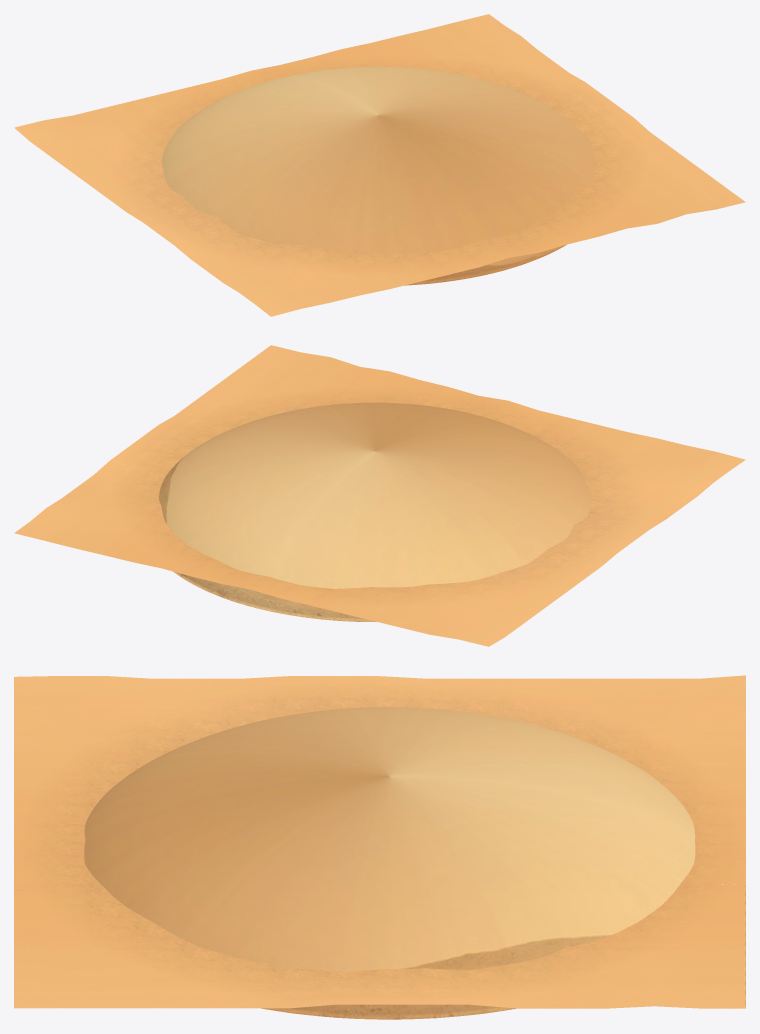
Rendered from basecamp.gltf.
3 renders of one model, top to bottom at view 1: azimuth 30°, elevation 25°; view 2: azimuth 150°, elevation 25°; view 3: azimuth 270°, elevation 25°, orthographic. The views are drawn at different scales.
Visible parts, largest first — view 1: Object_6, Object_3, Object_4, Object_5, Object_2; view 2: Object_6, Object_3, Object_4, Object_5, Object_2; view 3: Object_6, Object_3, Object_4, Object_5, Object_2.
Boxes of the visible parts, bbox=[...] form: Object_6: bbox=[162, 66, 594, 285]; Object_3: bbox=[127, 196, 537, 316]; Object_4: bbox=[513, 82, 745, 252]; Object_5: bbox=[14, 57, 327, 212]; Object_2: bbox=[311, 14, 584, 97]; Object_6: bbox=[159, 402, 591, 621]; Object_3: bbox=[458, 396, 745, 566]; Object_4: bbox=[110, 345, 478, 475]; Object_5: bbox=[192, 551, 600, 646]; Object_2: bbox=[14, 460, 214, 576]; Object_6: bbox=[84, 707, 711, 1019]; Object_3: bbox=[14, 676, 425, 864]; Object_4: bbox=[14, 864, 471, 1008]; Object_5: bbox=[425, 675, 745, 884]; Object_2: bbox=[471, 883, 745, 1008].
Size of the model in its own units: 986 by 146 by 925.
30 materials, 30 textured.
